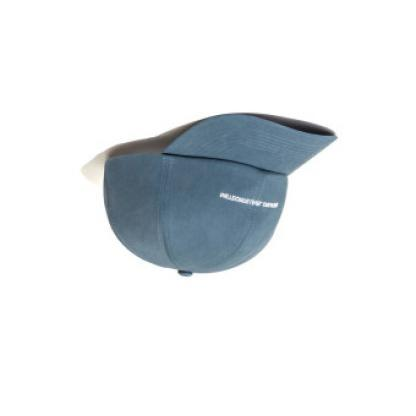cap: (96, 109, 342, 284)
